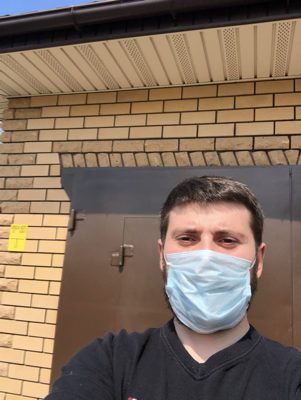with_mask: (163, 215, 256, 336)
